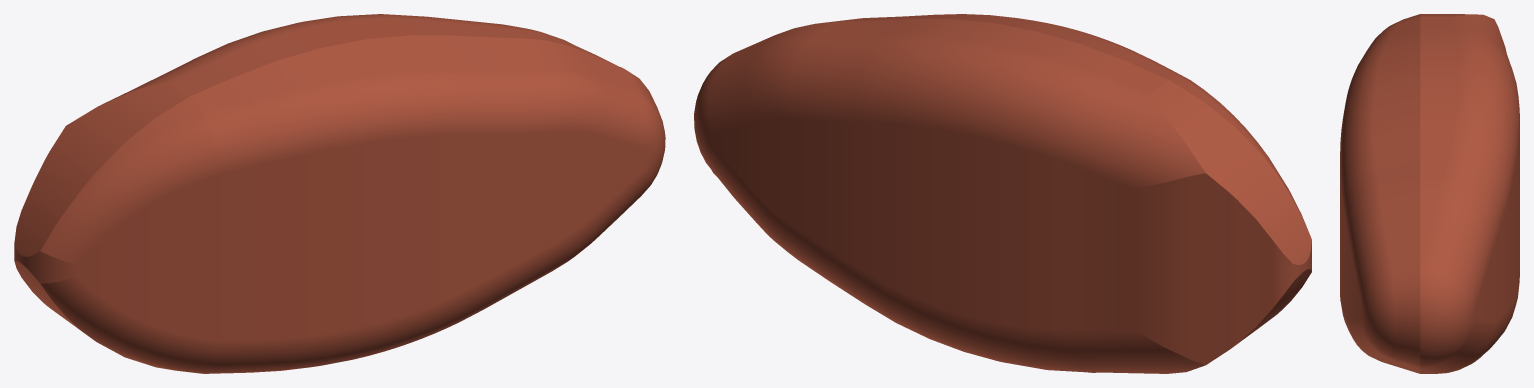
The model's file is tongue.fbx.
The picture shows the model from 3 angles, left to right: view 1: azimuth 30°, elevation 25°; view 2: azimuth 150°, elevation 25°; view 3: azimuth 270°, elevation 25°; orthographic projection. The views are drawn at different scales.
Parts seen in each view (by area): view 1: Fillet4; view 2: Fillet4; view 3: Fillet4.
Part boxes in pixels (box(x1,y1,x2,y2)): Fillet4: box(14, 14, 665, 373); Fillet4: box(694, 14, 1311, 373); Fillet4: box(1340, 14, 1519, 373).
Size of the model in its own units: 4.02 by 1.91 by 1.19.
